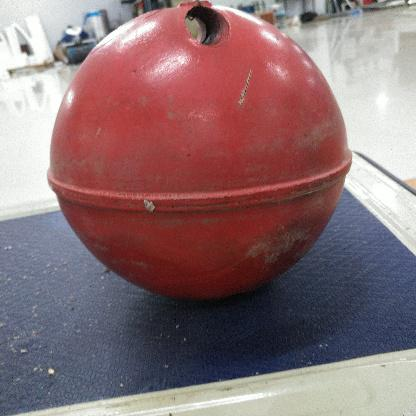red_buoy: (48, 8, 353, 304)
